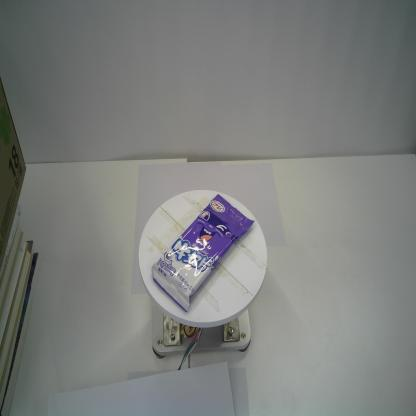Candy: (151, 194, 255, 312)
